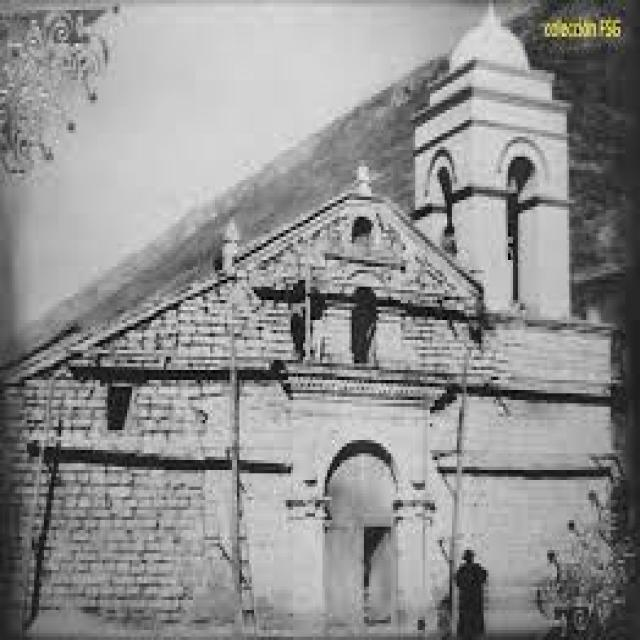CAMPANARIO: (394, 72, 582, 324)
CUPULA: (0, 0, 601, 624)
PORTADA CENTRAL: (437, 16, 546, 87)
SIMETRIA COLONIAL: (249, 375, 427, 623)
